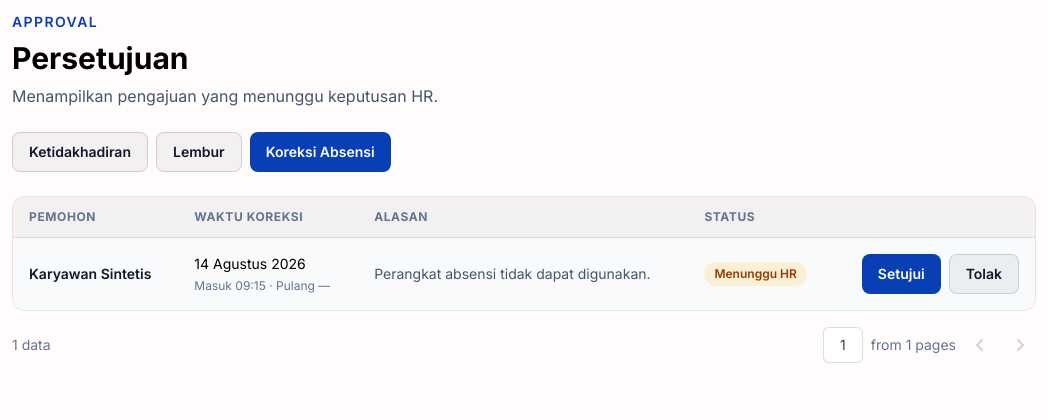
Test: ApprovalInboxPage › surfaces a decision error inline without losing the queue
This screenshot has width=1048, height=420.
Click the button "Tolak" at x=984, y=274, box [949,254,1019,294]
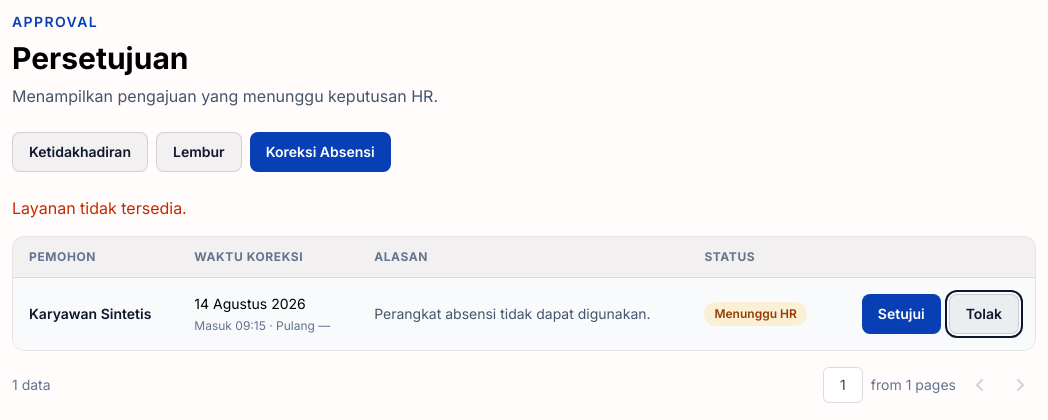
Result: the text "Layanan tidak tersedia." is shown at [12,198,187,218]
